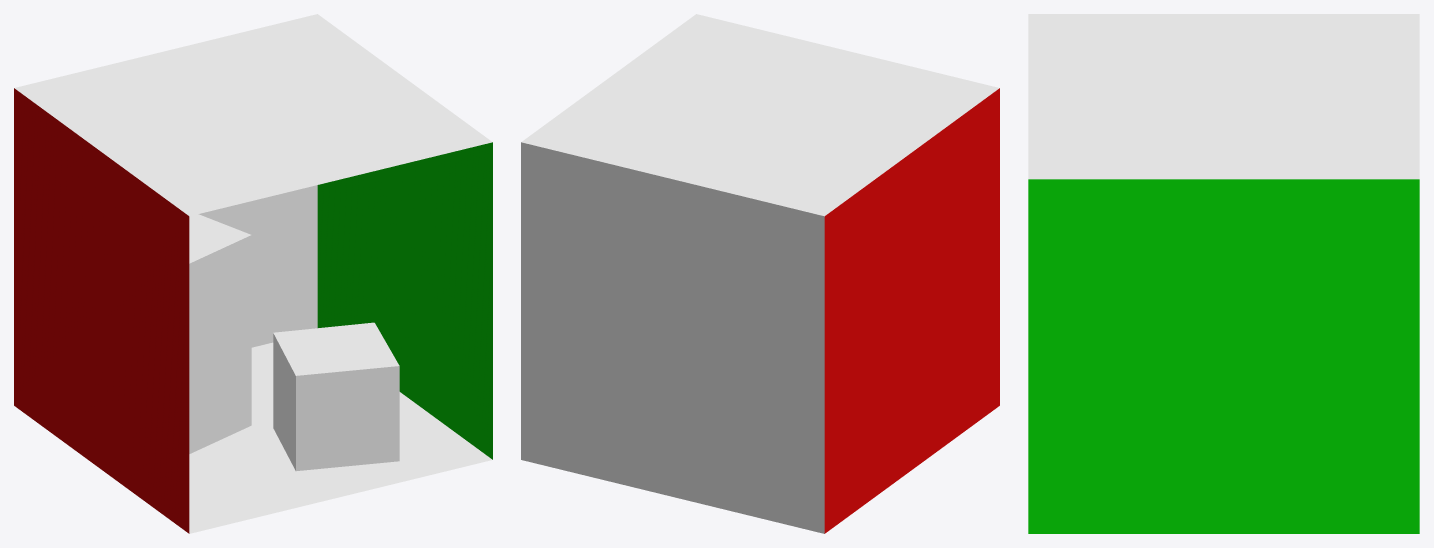
The model's file is CornellBoxConor.glb.
3 views of the same model, side by side, from view 1: azimuth 30°, elevation 25°; view 2: azimuth 150°, elevation 25°; view 3: azimuth 270°, elevation 25° (orthographic). The views are drawn at different scales.
Visible parts, largest first — view 1: LeftWall, Ceiling, RightWall, Floor, NormalBox, TallBox, BackWall; view 2: BackWall, LeftWall, Ceiling; view 3: RightWall, Ceiling.
Boxes of the visible parts, x1,y1,x2,y2 form: LeftWall: [14, 88, 189, 533]; Ceiling: [14, 14, 492, 216]; RightWall: [317, 142, 492, 459]; Floor: [189, 342, 492, 533]; NormalBox: [273, 322, 399, 471]; TallBox: [189, 214, 251, 453]; BackWall: [198, 185, 317, 347]; BackWall: [521, 142, 824, 533]; LeftWall: [824, 88, 999, 533]; Ceiling: [521, 14, 999, 216]; RightWall: [1028, 179, 1419, 533]; Ceiling: [1028, 14, 1419, 179].
Bounding box in the file's own units: 2 × 2 × 2.
